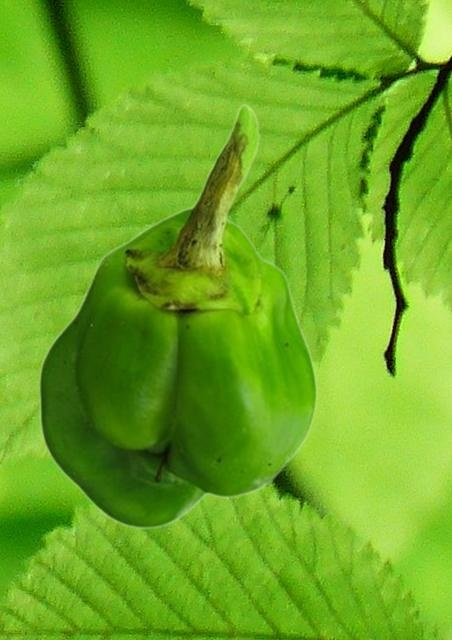bell_pepper: (37, 102, 317, 528)
